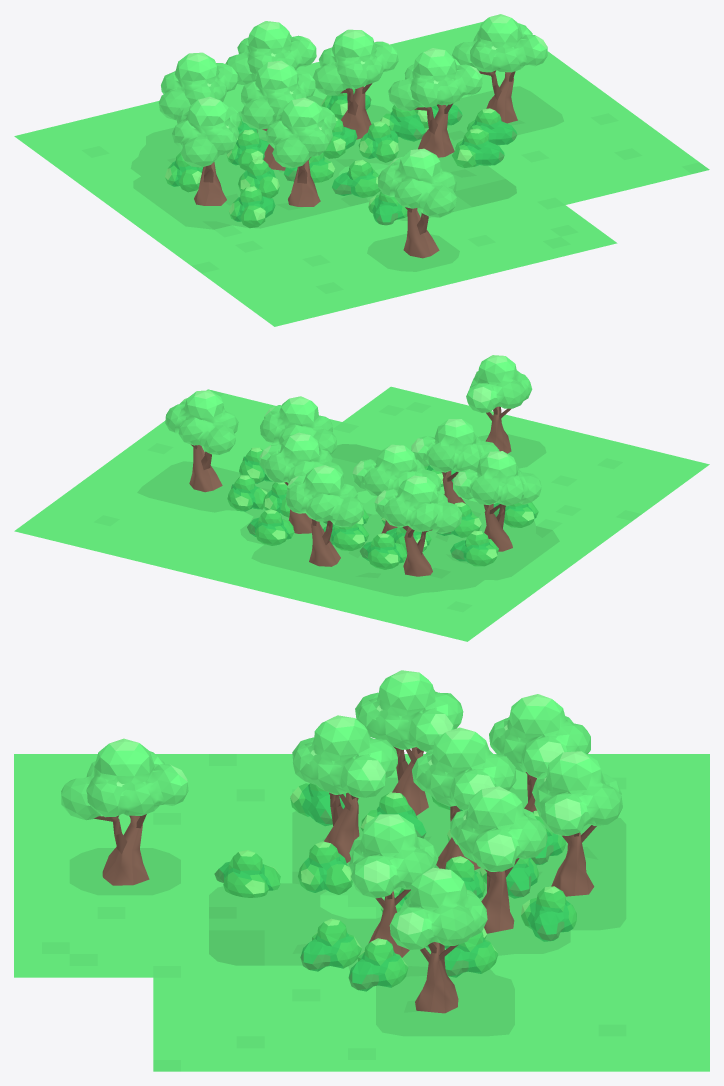
File: grass.gltf
3 views of the same model, one above another, from view 1: azimuth 30°, elevation 25°; view 2: azimuth 150°, elevation 25°; view 3: azimuth 270°, elevation 25° (orthographic). The views are drawn at different scales.
Parts seen in each view (by area): view 1: grass, forest, shadow_grass, cysts; view 2: grass, forest, shadow_grass, cysts; view 3: grass, forest, shadow_grass, cysts.
Boxes of the visible parts, x1,y1,x2,y2 form: grass: (14,22,709,326); forest: (158,14,547,258); shadow_grass: (130,86,563,271); cysts: (165,89,517,228); grass: (14,386,709,641); forest: (165,355,541,576); shadow_grass: (137,434,559,596); cysts: (227,447,538,569); grass: (14,754,709,1071); forest: (61,670,622,1013); shadow_grass: (69,777,626,1036); cysts: (214,783,576,991).
Bounding box in the file's own units: 25.31 × 5.36 × 23.44.
